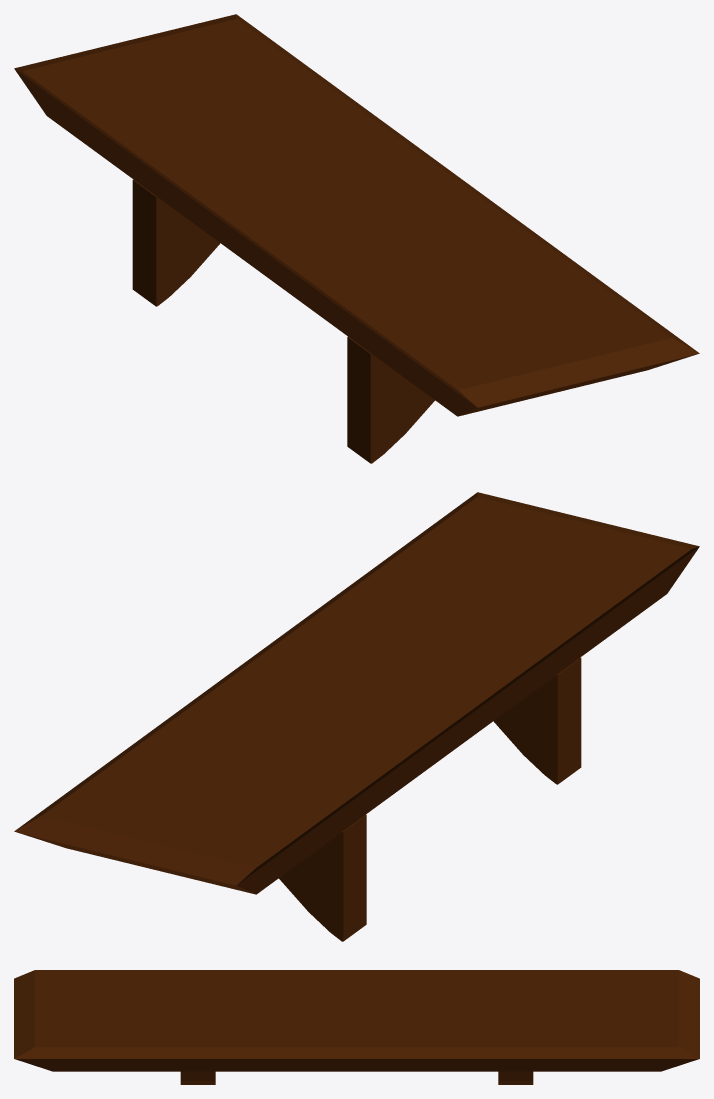
The model's file is Shelf.fbx.
The picture shows the model from 3 angles, top to bottom: view 1: azimuth 30°, elevation 25°; view 2: azimuth 150°, elevation 25°; view 3: azimuth 270°, elevation 25°; orthographic projection. The views are drawn at different scales.
Visible parts, largest first — view 1: Shelf; view 2: Shelf; view 3: Shelf.
Boxes of the visible parts, box(x1,y1,x2,y2) form: Shelf: box(14, 14, 699, 463); Shelf: box(14, 492, 699, 941); Shelf: box(14, 970, 699, 1084).
Bounding box in the file's own units: 29.43 × 18.35 × 104.
